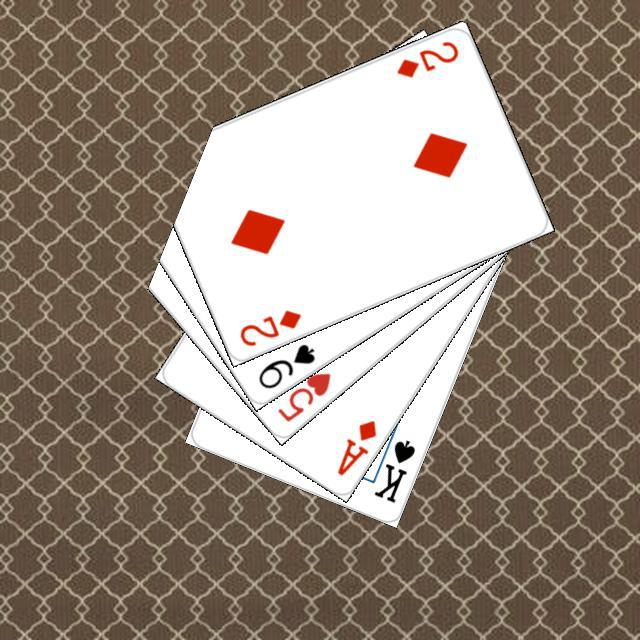2d: (234, 304, 303, 348), (392, 36, 460, 80)
5h: (272, 367, 333, 424)
9s: (253, 338, 317, 391)
Ad: (332, 415, 379, 478)
Ks: (369, 435, 417, 505)
